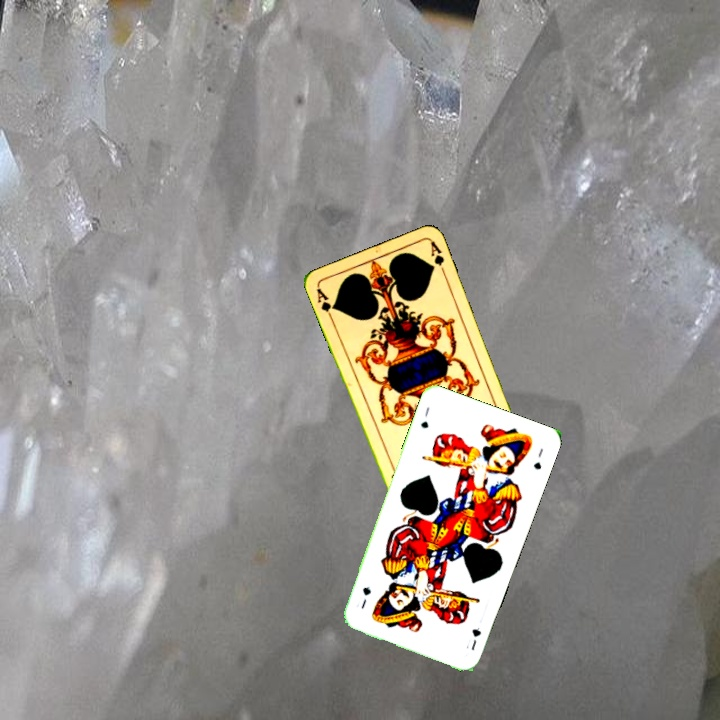GA: (313, 284, 338, 322)
GU: (462, 624, 484, 653), (416, 403, 432, 431)
